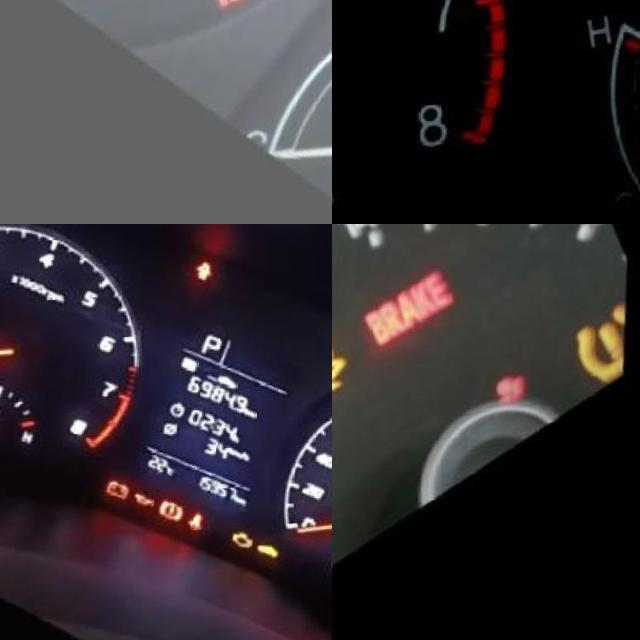Seat Belt: (182, 508, 205, 534)
